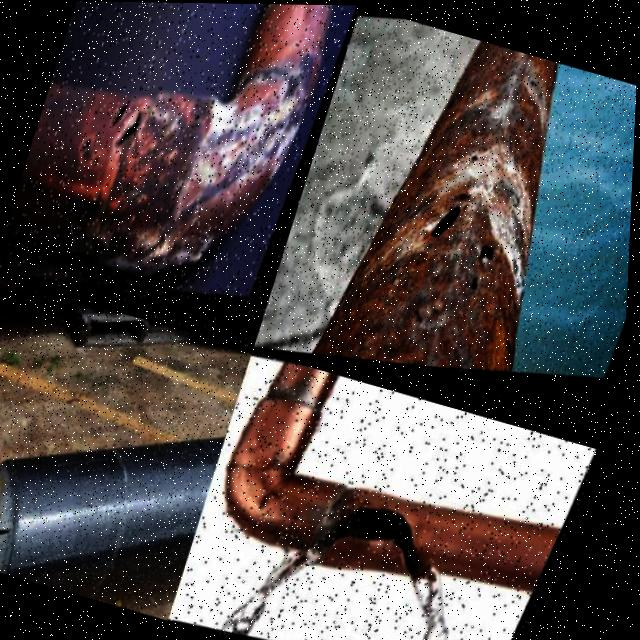hole: (427, 196, 470, 254), (118, 102, 153, 153), (475, 227, 508, 276), (78, 131, 112, 174), (111, 95, 136, 134), (467, 275, 491, 307), (524, 72, 542, 99), (470, 147, 485, 170)
rupture: (317, 488, 445, 585), (1, 511, 17, 571)
